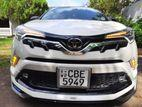car: (11, 5, 138, 105)
